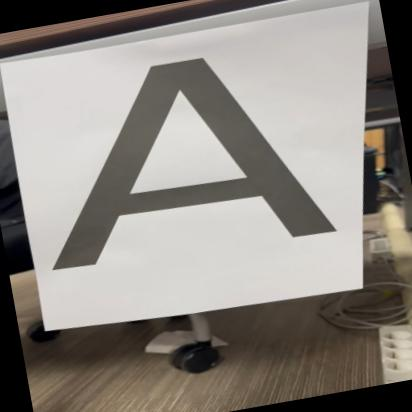seat: (12, 31, 342, 284)
